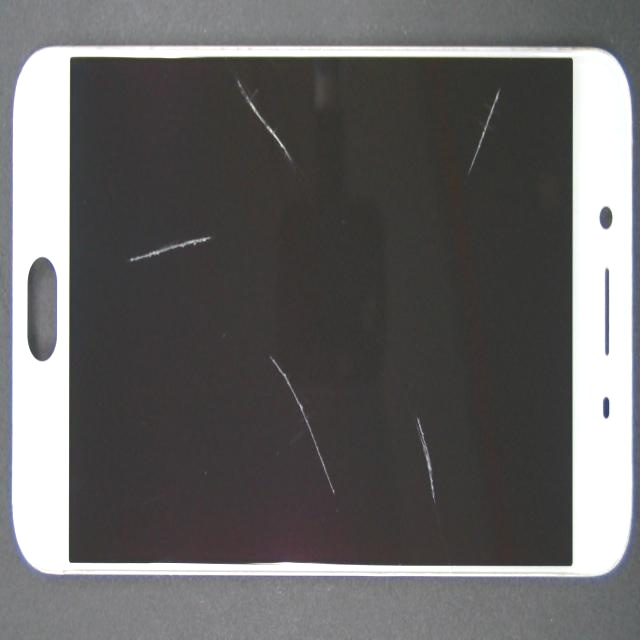scratch: (238, 311, 640, 640), (220, 337, 489, 640), (265, 0, 640, 151), (174, 90, 293, 337), (156, 130, 439, 225)
